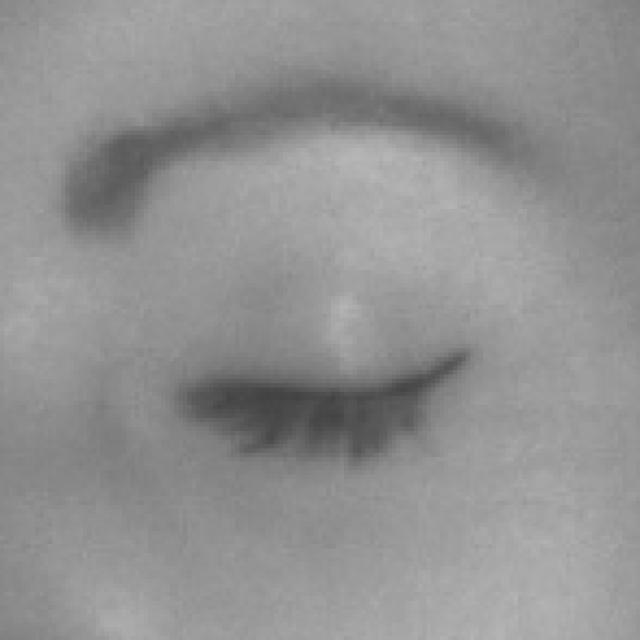Eyeclosed: (196, 268, 477, 529)
